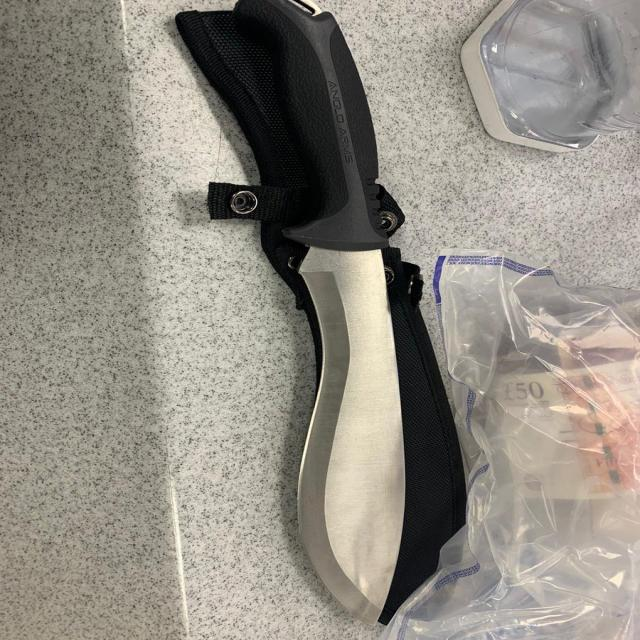Sharp-Object: (239, 0, 405, 628)
